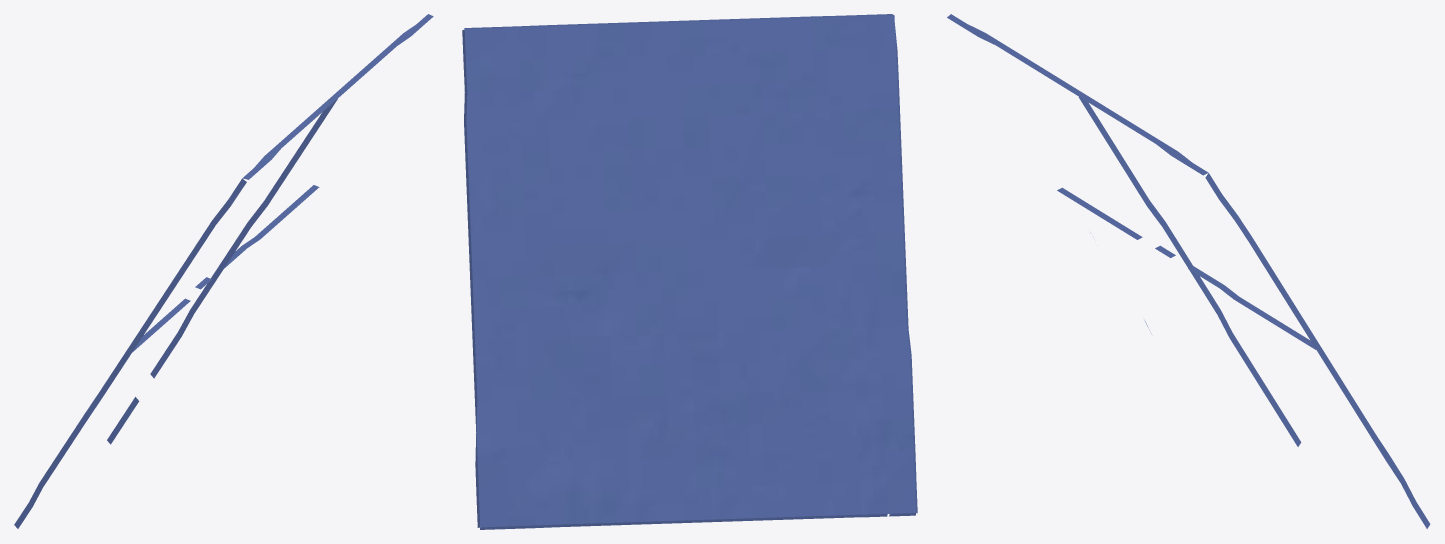
3 views of the same model, side by side, from view 1: azimuth 30°, elevation 25°; view 2: azimuth 150°, elevation 25°; view 3: azimuth 270°, elevation 25° (orthographic). The views are drawn at different scales.
Size of the model in its own units: 157996 by 137200 by 143549.
1 material, 1 textured.
